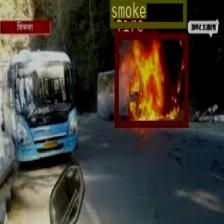fire: (114, 32, 188, 127)
smoke: (109, 0, 186, 27)
